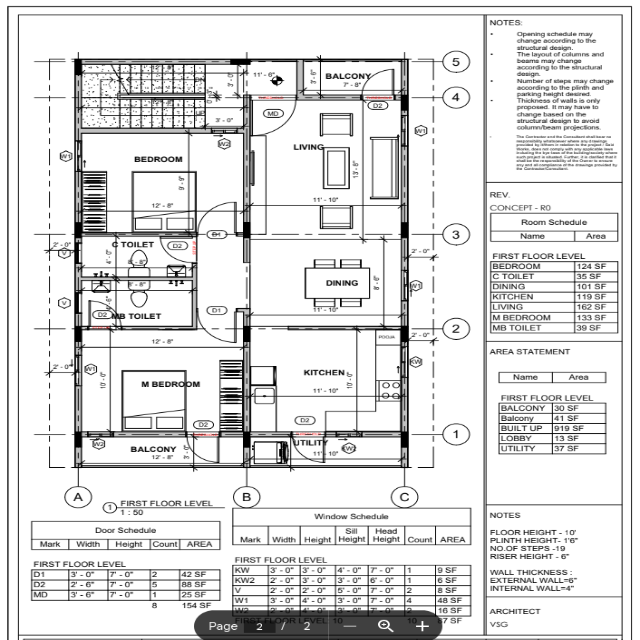door: (247, 96, 298, 136), (195, 303, 240, 345), (195, 203, 240, 235), (186, 430, 222, 467), (290, 431, 328, 464), (160, 234, 199, 265), (360, 67, 397, 99), (88, 298, 124, 330)
